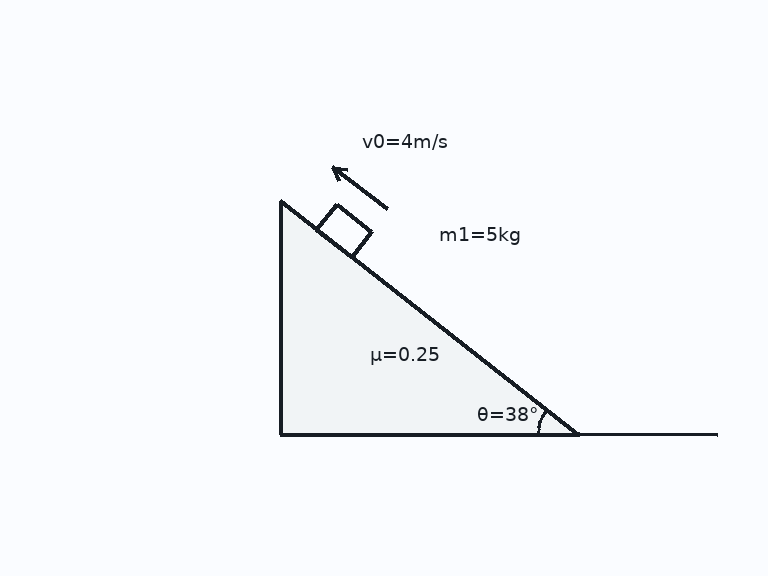block: (315, 202, 373, 259)
ramp: (278, 199, 580, 436)
